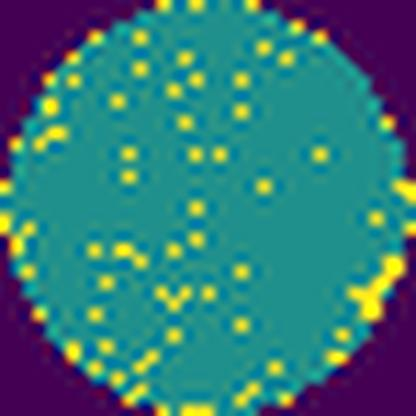Edge-Loc: (339, 251, 406, 328)
